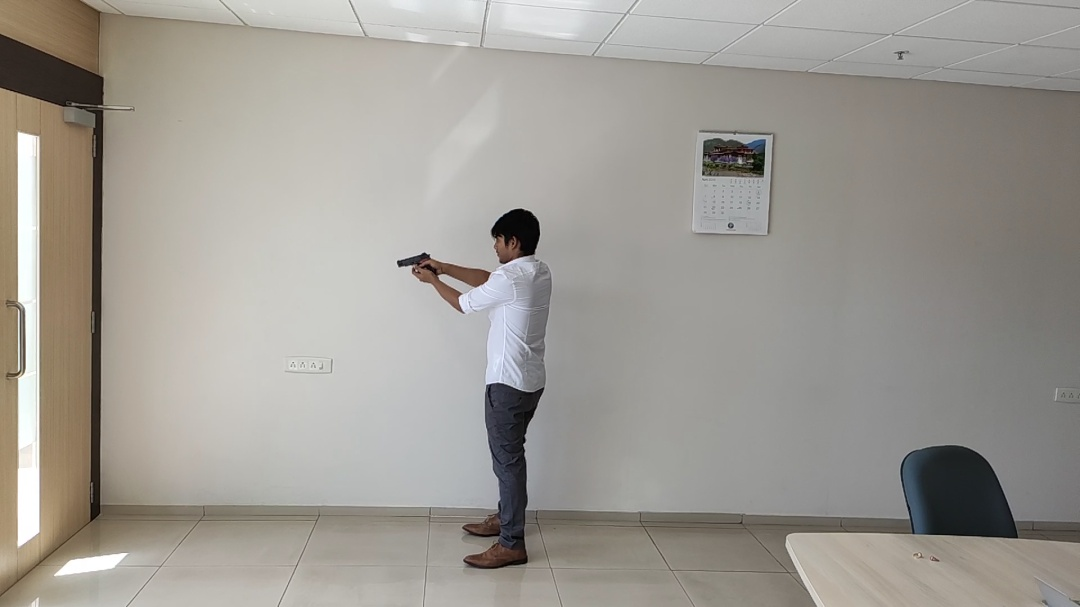gun: (313, 69, 644, 575)
